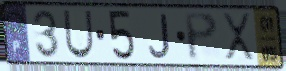3: (32, 8, 59, 60)
5: (107, 9, 137, 63)
J: (147, 13, 172, 60)
P: (182, 11, 220, 63)
U: (62, 8, 96, 61)
X: (220, 11, 257, 64)
